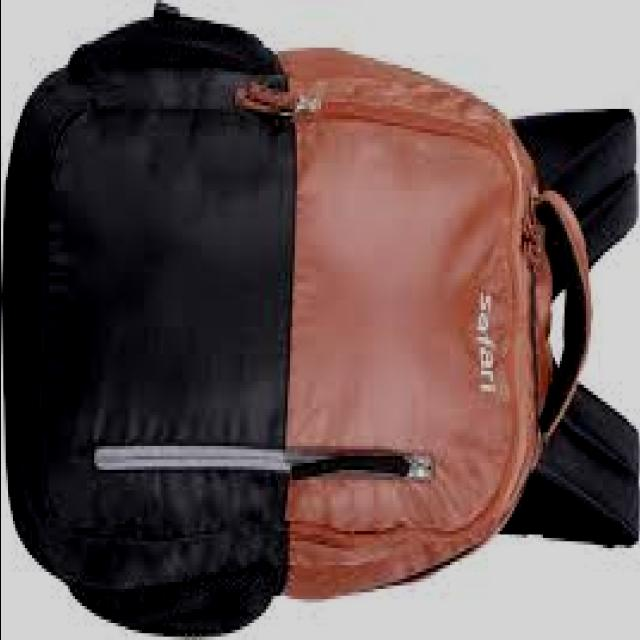backpack: (3, 2, 640, 638)
